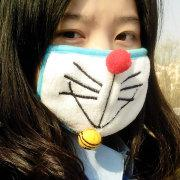OK: (31, 11, 152, 134)
